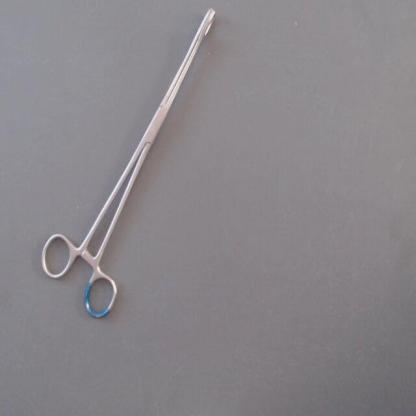Sponge Forceps: (34, 3, 223, 324)
